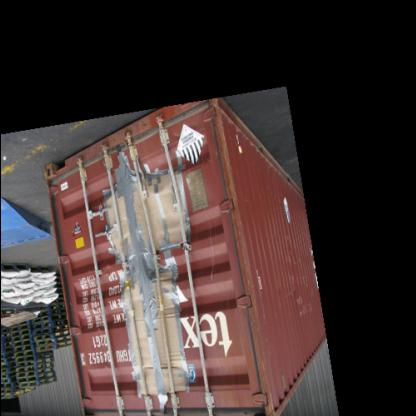Damage: (110, 149, 198, 395)
